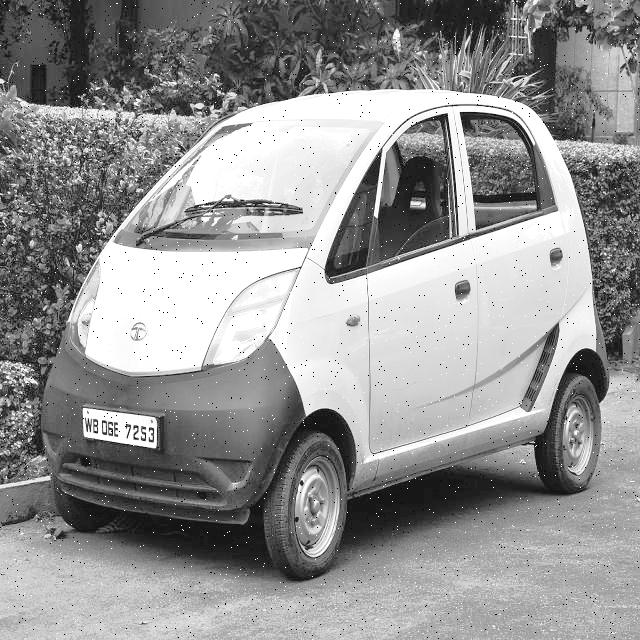Car: (42, 83, 607, 539)
